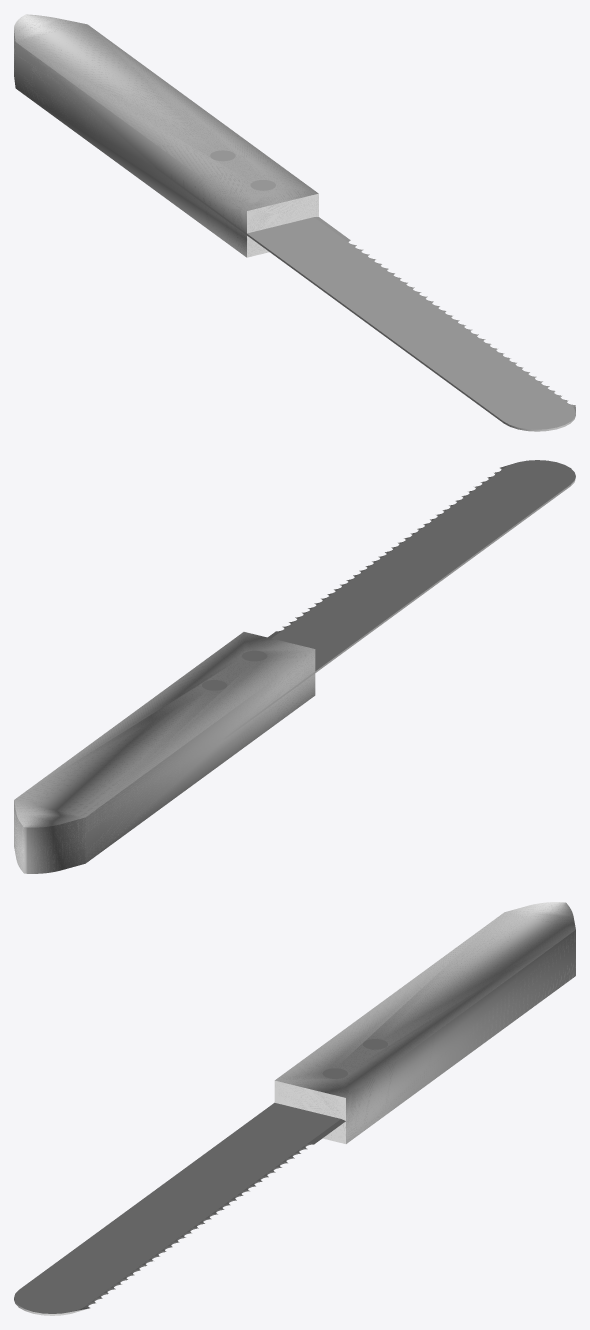
File: model_scale.obj
3 views of the same model, one above another, from view 1: azimuth 30°, elevation 25°; view 2: azimuth 150°, elevation 25°; view 3: azimuth 330°, elevation 25° (orthographic).
Visible parts, largest first — view 1: mesh1_mesh1-geometry; view 2: mesh1_mesh1-geometry; view 3: mesh1_mesh1-geometry.
Part boxes in pixels (left/top/right/bottom): mesh1_mesh1-geometry: left=14, top=14, right=575, bottom=431; mesh1_mesh1-geometry: left=14, top=460, right=575, bottom=873; mesh1_mesh1-geometry: left=14, top=902, right=575, bottom=1315.
Bounding box in the file's own units: 0.0184 × 0.0114 × 0.2362.
